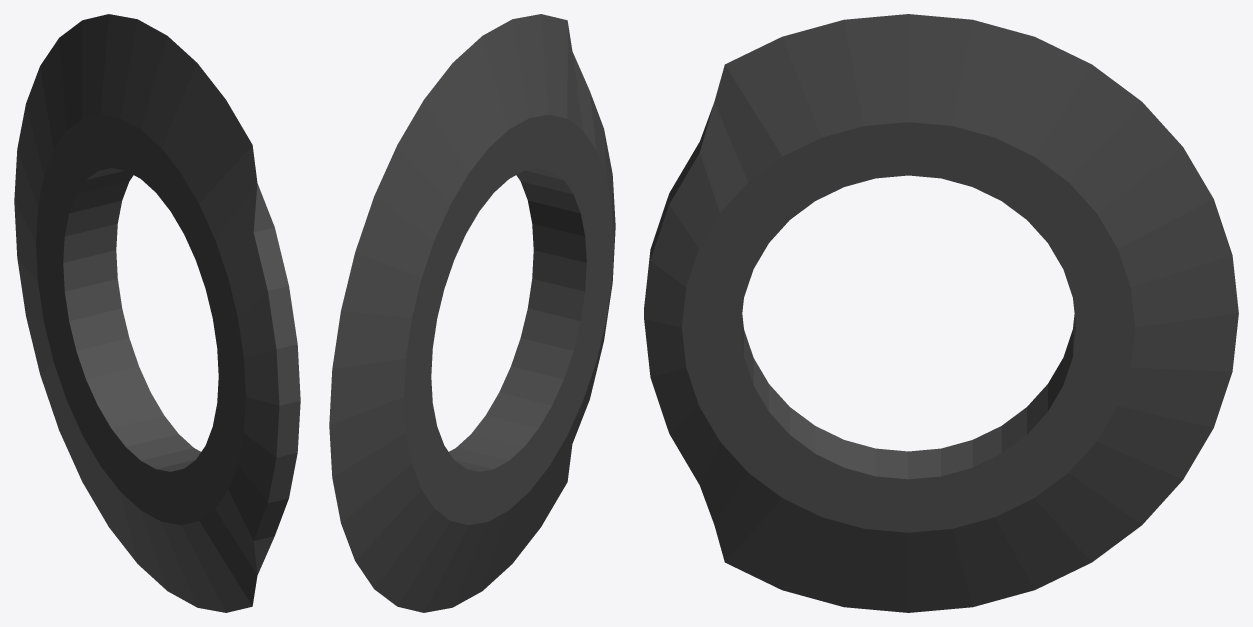
Rendered from placeholder_chakram.obj.
3 views of the same model, side by side, from view 1: azimuth 30°, elevation 25°; view 2: azimuth 150°, elevation 25°; view 3: azimuth 270°, elevation 25° (orthographic). The views are drawn at different scales.
Parts seen in each view (by area): view 1: Circle; view 2: Circle; view 3: Circle.
Part boxes in pixels (x1=…): Circle: x1=14, y1=14, x2=300, y2=612; Circle: x1=329, y1=14, x2=615, y2=612; Circle: x1=644, y1=14, x2=1238, y2=612.
Bounding box in the file's own units: 0.1 × 1 × 0.9.
